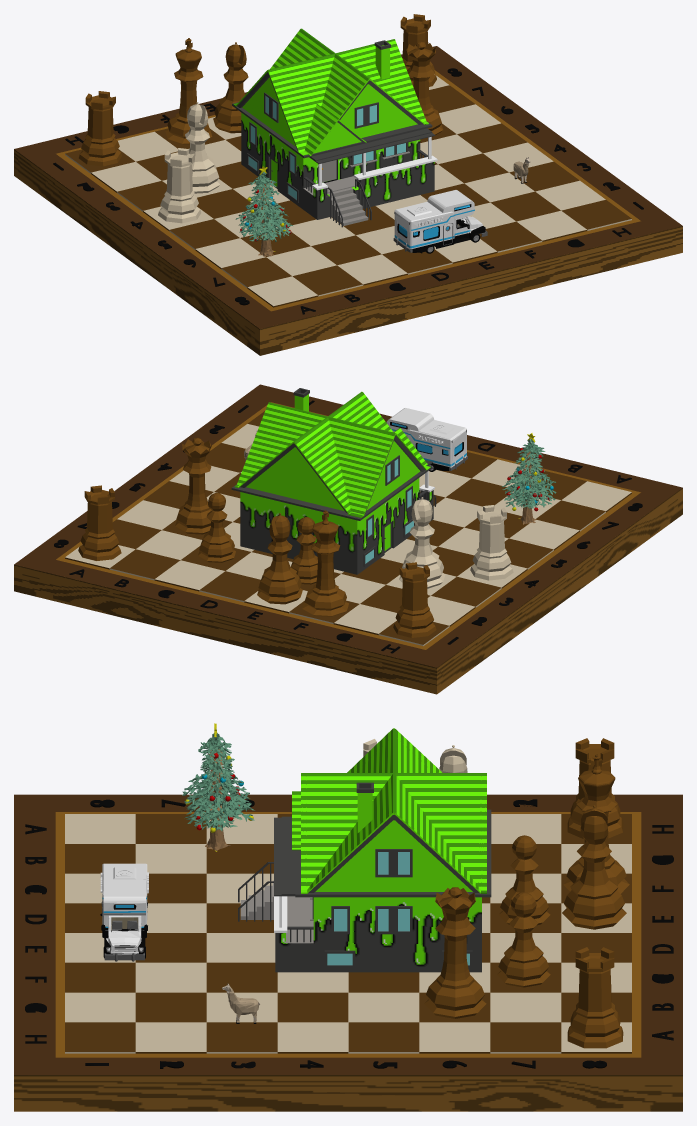
3 views of the same model, one above another, from view 1: azimuth 30°, elevation 25°; view 2: azimuth 150°, elevation 25°; view 3: azimuth 270°, elevation 25° (orthographic). The views are drawn at different scales.
Visible parts, largest first — view 1: Cube.002, Cube.754, VEHICLES_CAMPER, OBJRANDOM_CHRISTMAS_TREE; view 2: Cube.002, Cube.754, VEHICLES_CAMPER, OBJRANDOM_CHRISTMAS_TREE; view 3: Cube.002, Cube.754, VEHICLES_CAMPER, OBJRANDOM_CHRISTMAS_TREE, ANIMAL_LLAMA.
Part boxes in pixels (x1,y1,x2,y2): Cube.002: (14,14,682,355); Cube.754: (232,28,437,227); VEHICLES_CAMPER: (393,190,487,253); OBJRANDOM_CHRISTMAS_TREE: (235,166,292,256); Cube.002: (14,384,682,694); Cube.754: (231,388,436,574); VEHICLES_CAMPER: (386,408,467,471); OBJRANDOM_CHRISTMAS_TREE: (502,433,556,524); Cube.002: (14,738,682,1111); Cube.754: (238,728,491,972); VEHICLES_CAMPER: (100,863,148,961); OBJRANDOM_CHRISTMAS_TREE: (182,723,254,851); ANIMAL_LLAMA: (222,983,259,1023).
Bounding box in the file's own units: 3981 × 1500 × 4012.
36 materials, 3 textured.
